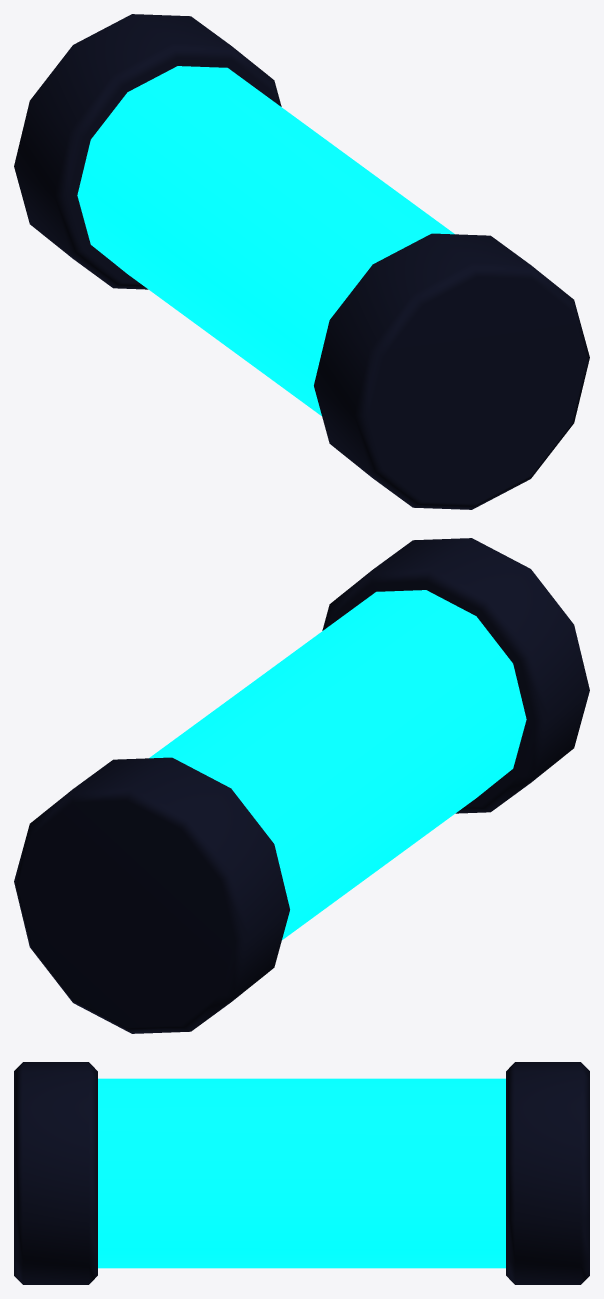
Rendered from NT_EnergyBolt_Cyan.fbx.
3 renders of one model, top to bottom at view 1: azimuth 30°, elevation 25°; view 2: azimuth 150°, elevation 25°; view 3: azimuth 270°, elevation 25°, orthographic. The views are drawn at different scales.
Visible parts, largest first — view 1: NT_EnergyBolt_Cyan__ProjectileMesh; view 2: NT_EnergyBolt_Cyan__ProjectileMesh; view 3: NT_EnergyBolt_Cyan__ProjectileMesh.
Part boxes in pixels (left/top/right/bottom): NT_EnergyBolt_Cyan__ProjectileMesh: left=14, top=14, right=589, bottom=509; NT_EnergyBolt_Cyan__ProjectileMesh: left=14, top=538, right=589, bottom=1033; NT_EnergyBolt_Cyan__ProjectileMesh: left=14, top=1062, right=589, bottom=1284.
Bounding box in the file's own units: 0.2 × 0.2 × 0.515.
